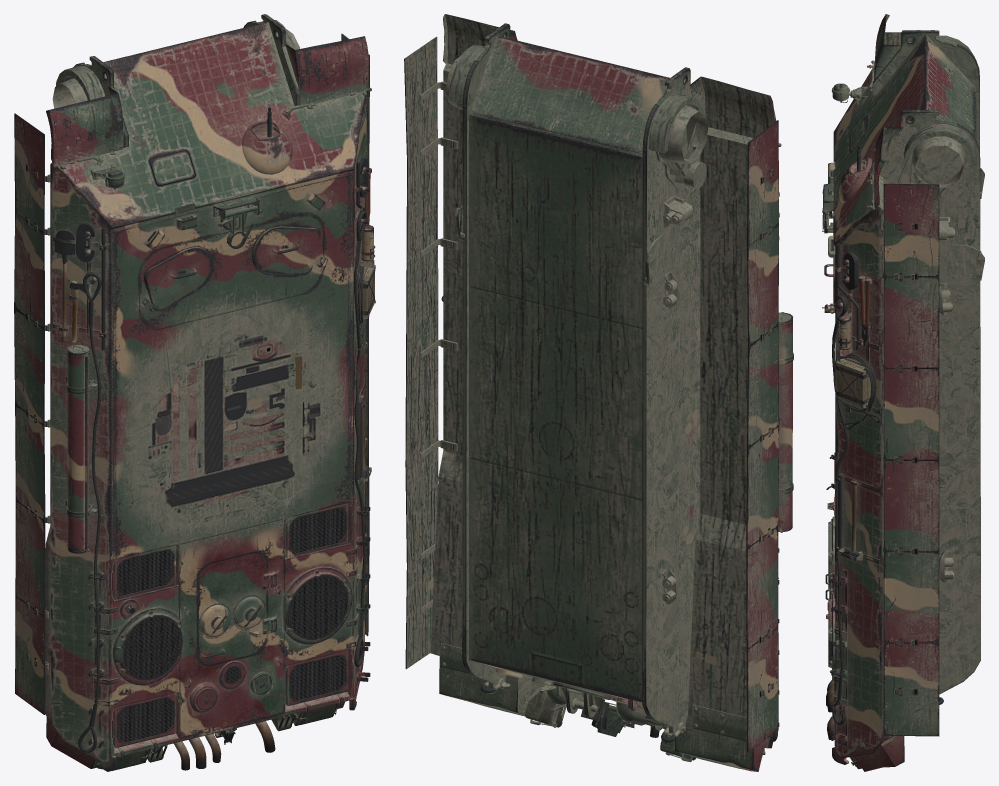
File: Hull.glb
The picture shows the model from 3 angles, left to right: view 1: azimuth 30°, elevation 25°; view 2: azimuth 150°, elevation 25°; view 3: azimuth 270°, elevation 25°; orthographic projection. The views are drawn at different scales.
Visible parts, largest first — view 1: set_0_group_0; view 2: set_0_group_0; view 3: set_0_group_0.
Part boxes in pixels (box(x1,y1,x2,y2)): set_0_group_0: box(14, 14, 375, 771); set_0_group_0: box(404, 14, 793, 771); set_0_group_0: box(822, 14, 984, 771).
Bounding box in the file's own units: 3.46 × 6.89 × 1.56.
1 material, 1 textured.
